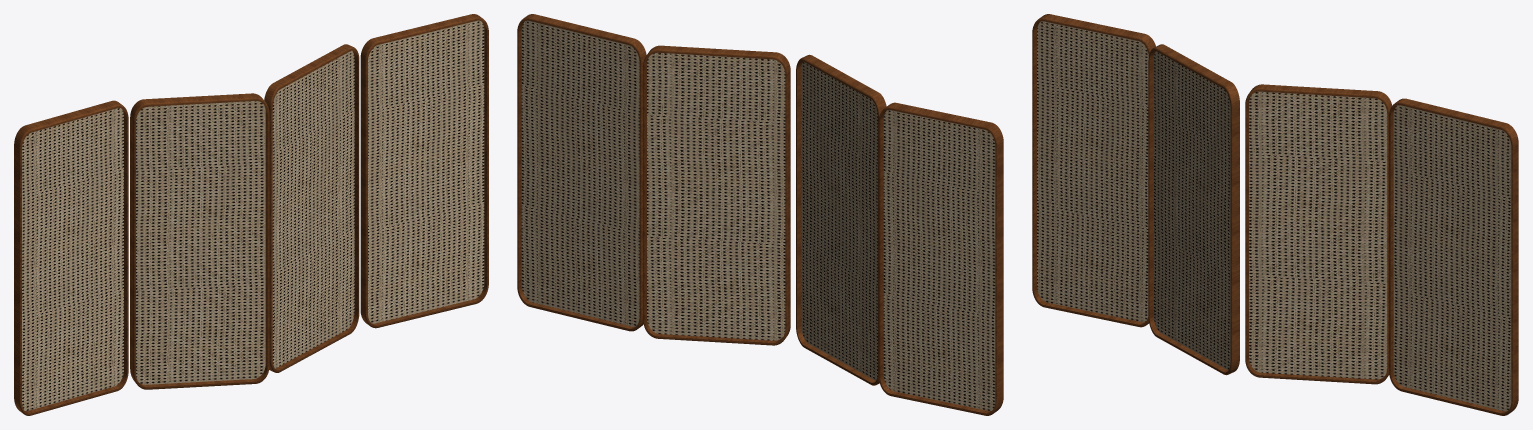
File: RoomDividerFbx.fbx
The picture shows the model from 3 angles, left to right: view 1: azimuth 30°, elevation 25°; view 2: azimuth 150°, elevation 25°; view 3: azimuth 330°, elevation 25°; orthographic projection.
Visible parts, largest first — view 1: Divider.0003, Divider.0001, Divider.0004, Divider.0002; view 2: Divider.0002, Divider.0001, Divider.0004, Divider.0003; view 3: Divider.0002, Divider.0001, Divider.0004, Divider.0003.
Part boxes in pixels (<box>): Divider.0003: <box>130,93,269,389</box>; Divider.0001: <box>360,14,488,328</box>; Divider.0004: <box>14,100,128,415</box>; Divider.0002: <box>264,44,359,372</box>; Divider.0002: <box>643,45,790,345</box>; Divider.0001: <box>517,14,646,331</box>; Divider.0004: <box>878,102,1003,415</box>; Divider.0003: <box>796,54,886,385</box>; Divider.0002: <box>1245,84,1392,384</box>; Divider.0001: <box>1389,98,1518,415</box>; Divider.0004: <box>1032,14,1155,327</box>; Divider.0003: <box>1148,44,1239,375</box>.
Bounding box in the file's own units: 691 × 400 × 96.91.
Materials: 2 (2 with a texture image).
